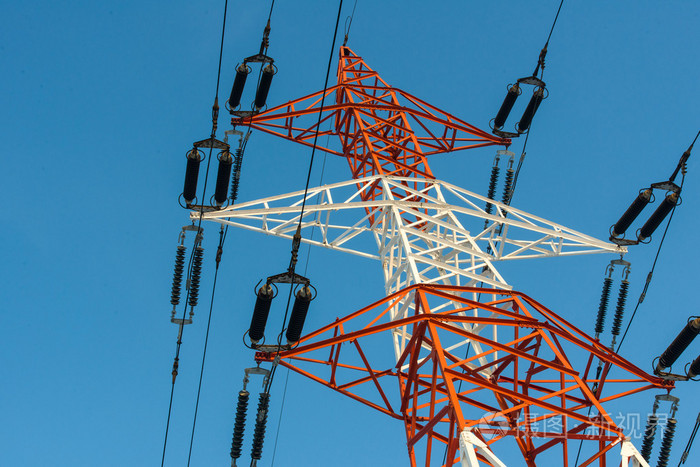insulator: (252, 394, 272, 461), (229, 395, 249, 459), (593, 276, 614, 333), (657, 416, 679, 467), (611, 279, 630, 336), (228, 146, 247, 202), (170, 245, 187, 304), (188, 248, 205, 307), (640, 410, 658, 461), (487, 166, 500, 211), (501, 168, 515, 207)
